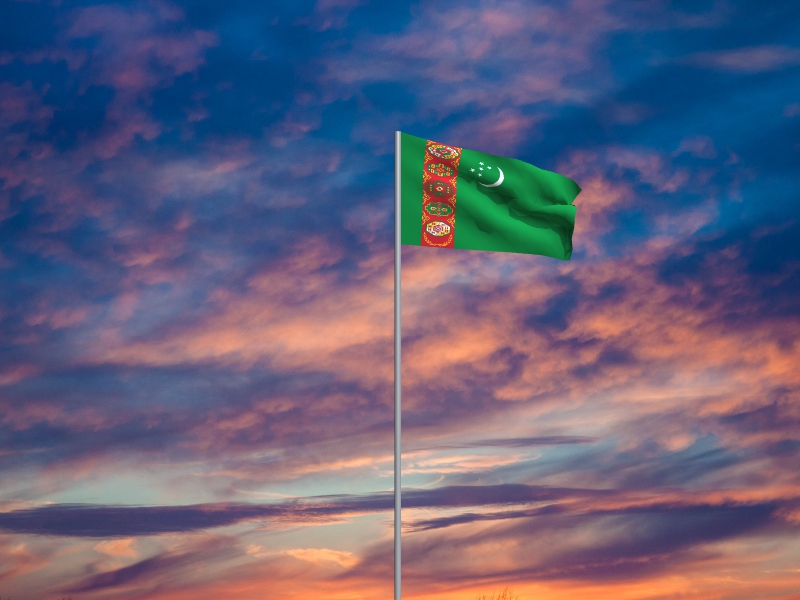tm: (402, 134, 584, 263)
